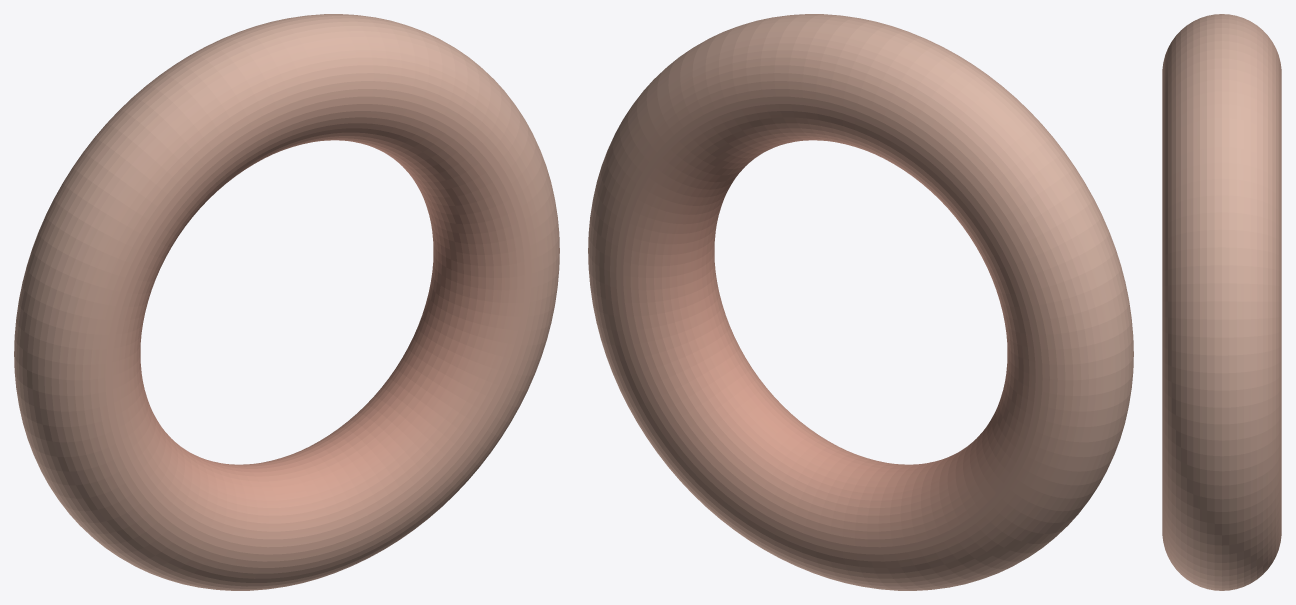
The picture shows the model from 3 angles, left to right: view 1: azimuth 30°, elevation 25°; view 2: azimuth 150°, elevation 25°; view 3: azimuth 270°, elevation 25°; orthographic projection. The views are drawn at different scales.
Visible parts, largest first — view 1: world; view 2: world; view 3: world.
Part boxes in pixels (x1,y1,x2,y2): world: (14, 14, 559, 590); world: (588, 14, 1133, 590); world: (1162, 14, 1281, 590).
Bounding box in the file's own units: 30.27 × 30.27 × 6.25.
